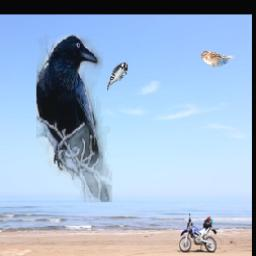Crow: (35, 35, 111, 202)
Sparrow: (200, 50, 234, 67)
Woodpecker: (106, 62, 127, 90)
